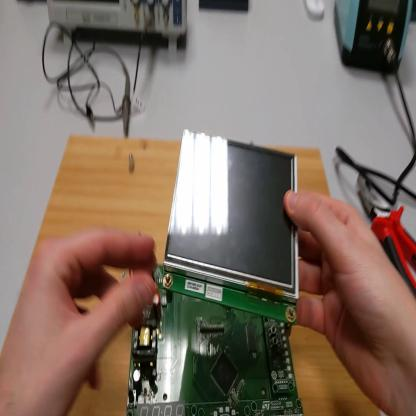hand: (2, 228, 160, 416), (284, 191, 416, 415)
low voltage board: (124, 272, 303, 414)
oscilloscope: (49, 2, 191, 51)
oscilloscope probe tip: (122, 62, 131, 142)
pliers: (355, 170, 416, 297)
socket: (18, 1, 49, 7), (408, 1, 415, 24)
welder station: (335, 1, 413, 79)
working area: (2, 123, 382, 415)
